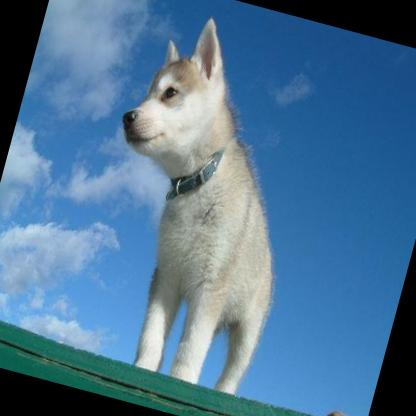Eskimo_dog: (57, 0, 339, 399)
